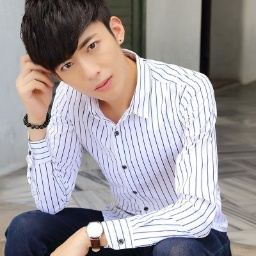face: (19, 1, 127, 103)
